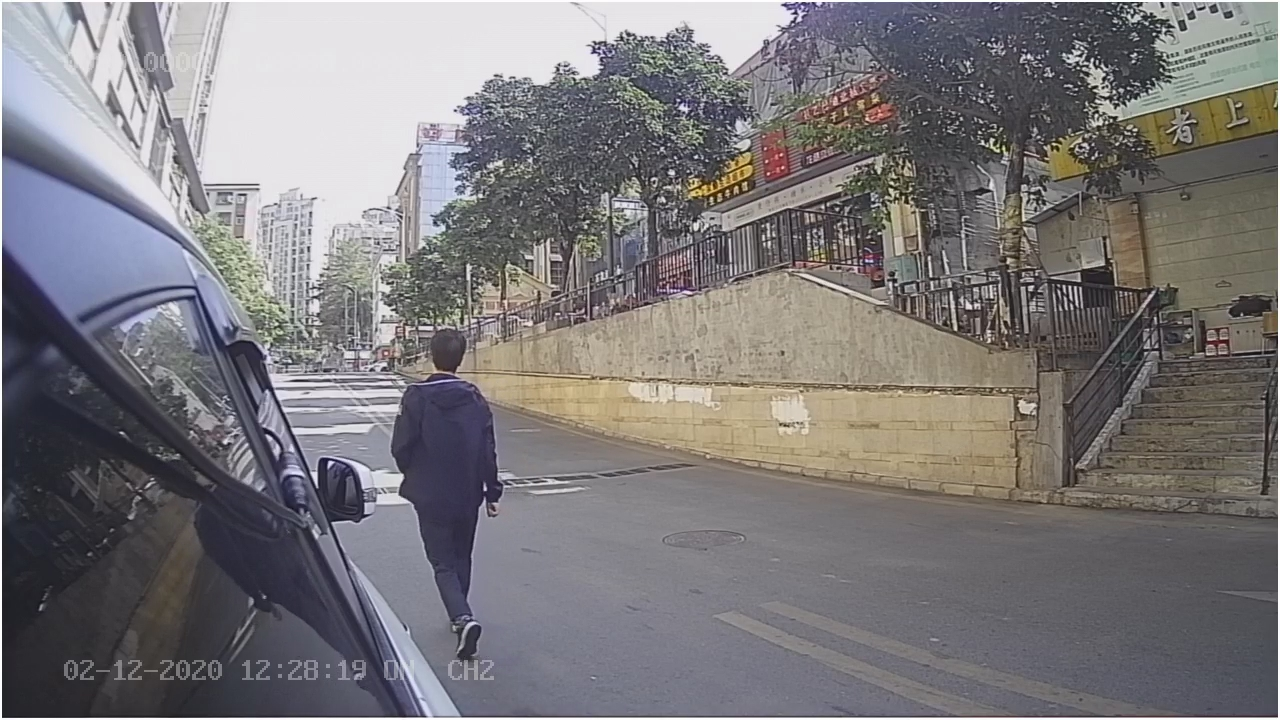person: (389, 322, 510, 662)
